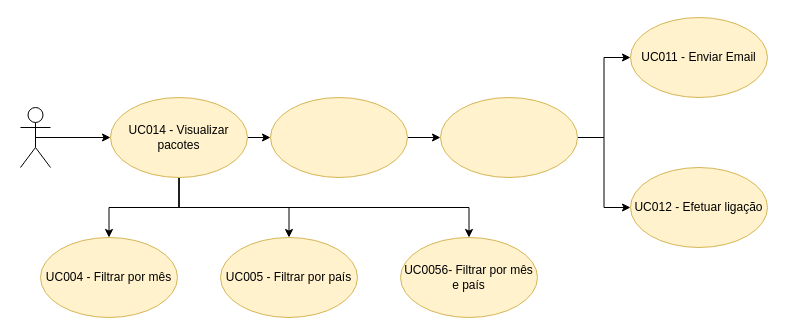
Some shapes in this 785 by 335 pixel diagram are drawn without their labels. The shapes that lost their labels are listed below. From the top down, each one's centre as x and y in pixels, then its label:
At (x=35, y=137): "Cliente".
At (x=339, y=137): "UC010 - Selecionar pacotes".
At (x=509, y=137): "UC013 - Detalhes pacotes".
